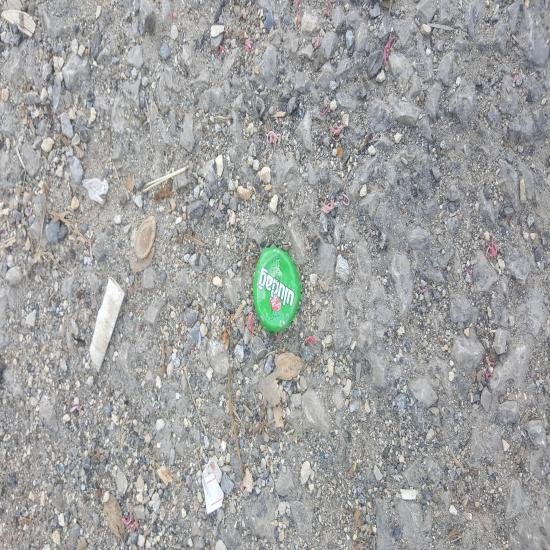Cigarette: (219, 303, 225, 319)
Other plastic bottle: (236, 461, 243, 471)
Plastic film: (67, 323, 89, 391), (62, 151, 77, 215), (61, 292, 79, 343), (110, 209, 120, 281), (97, 385, 122, 406), (72, 219, 77, 234)
Plastic straw: (112, 246, 134, 341), (120, 43, 138, 156), (42, 169, 65, 254), (231, 354, 246, 481), (127, 400, 150, 477), (4, 468, 30, 511), (153, 172, 196, 195), (16, 482, 47, 507), (48, 368, 67, 404), (116, 393, 142, 411), (8, 491, 38, 501), (131, 89, 172, 96), (67, 185, 70, 231), (128, 431, 133, 454), (34, 444, 48, 451), (101, 334, 121, 338), (60, 218, 64, 233), (114, 502, 116, 516), (41, 499, 46, 503)
Unlabeled litter: (236, 340, 268, 387)
